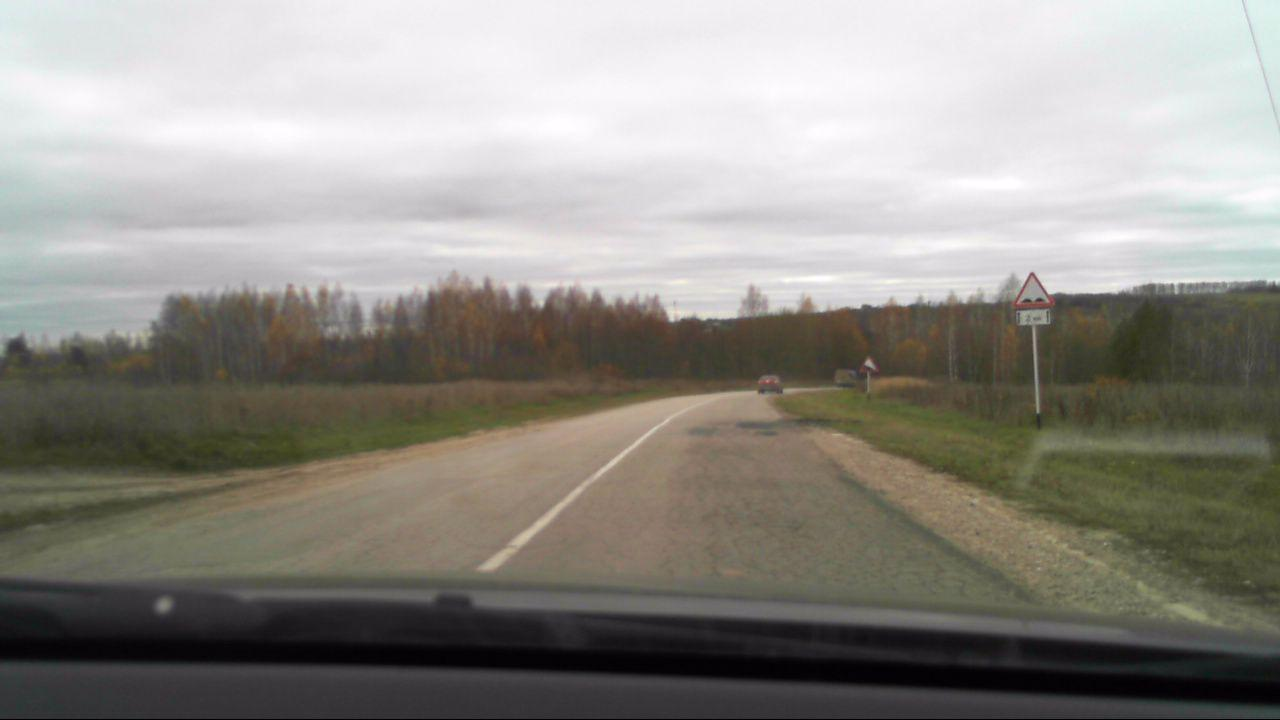1_13: (858, 354, 879, 376)
1_16: (1013, 269, 1054, 309)
8_2_1: (1015, 309, 1053, 325)
